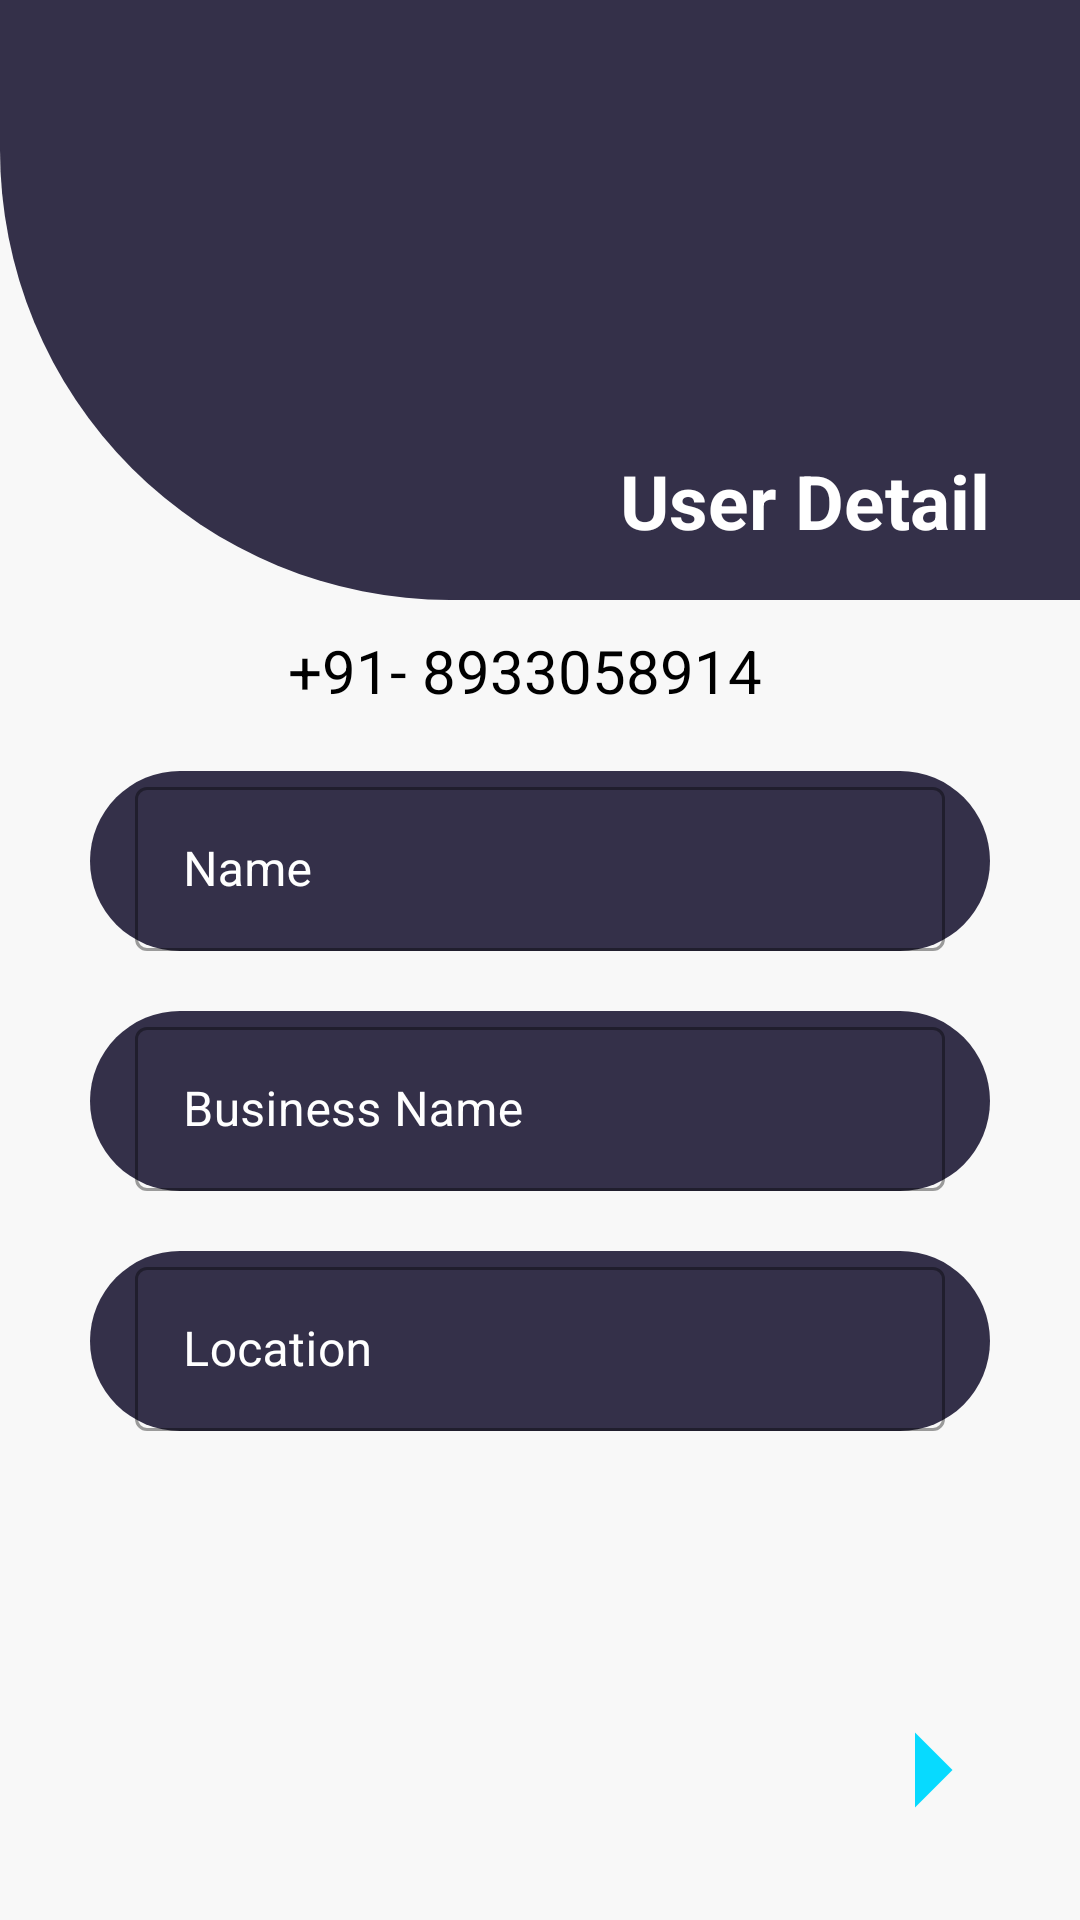

Where icons sit on this 1080x1920 app screen, as (x1, y1, x2, y2):
arrow right: (915, 1732, 953, 1808)
